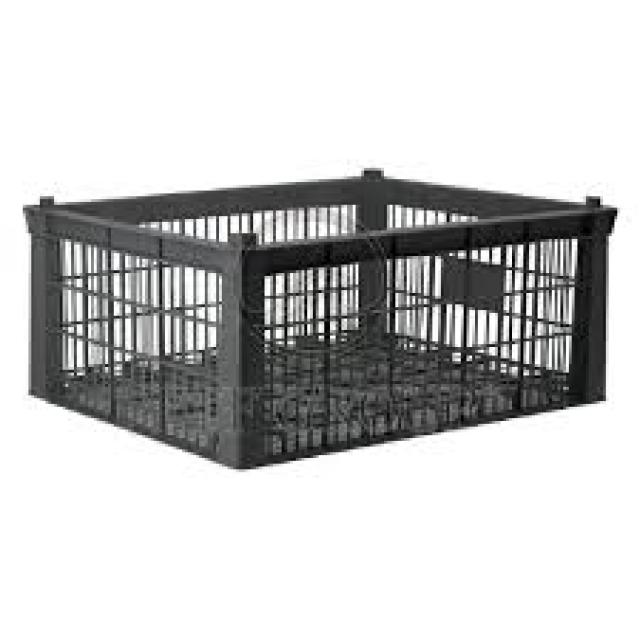basket: (21, 163, 618, 476)
